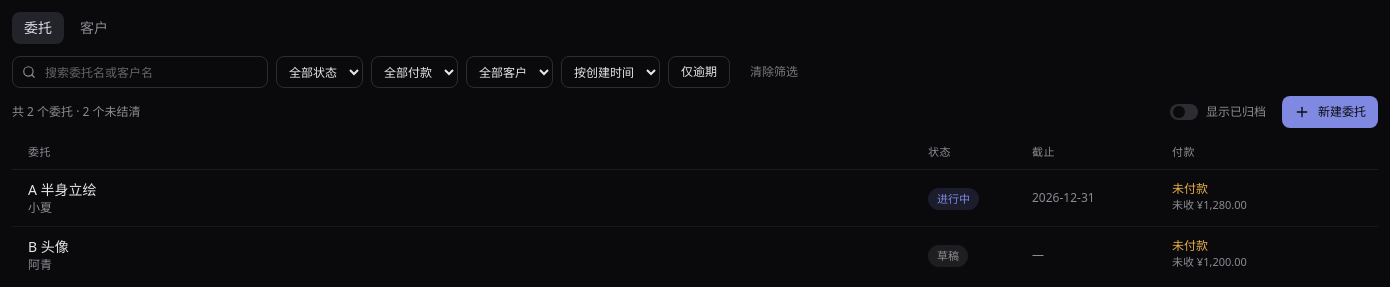
it: 委托筛选与计数 › 搜索匹配委托名与客户名，计数口径为「筛选后 M / 共 N」
expect the text "A 半身立绘" is shown: met, box [28,180,97,200]
expect the text with test id "commissions-summary" shows "共 2 个委托": met, box [12,103,140,120]
In the field named "搜索委托或客户": coordinates (140, 72) [12,56,268,88], type "阿青"
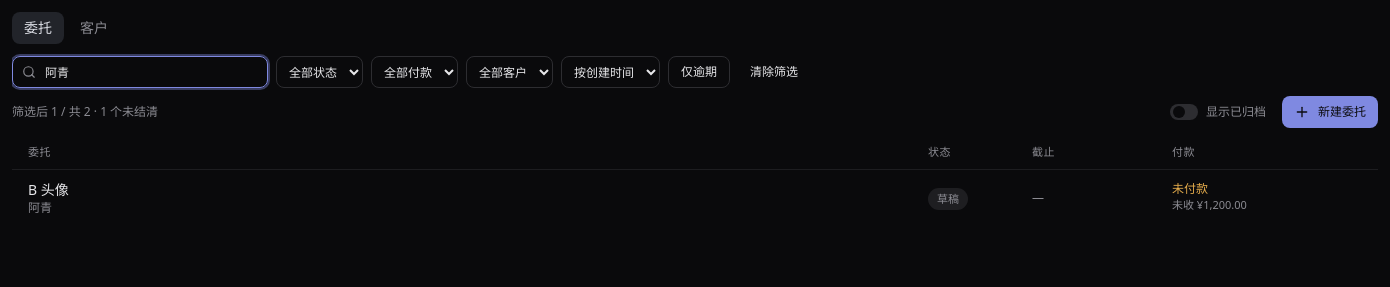
expect the text "B 头像" is shown: met, box [28,180,69,200]
expect the button "A 半身立绘" is gone: met
expect the text with test id "commissions-summary" shows "筛选后 1 / 共 2": met, box [12,103,158,120]
